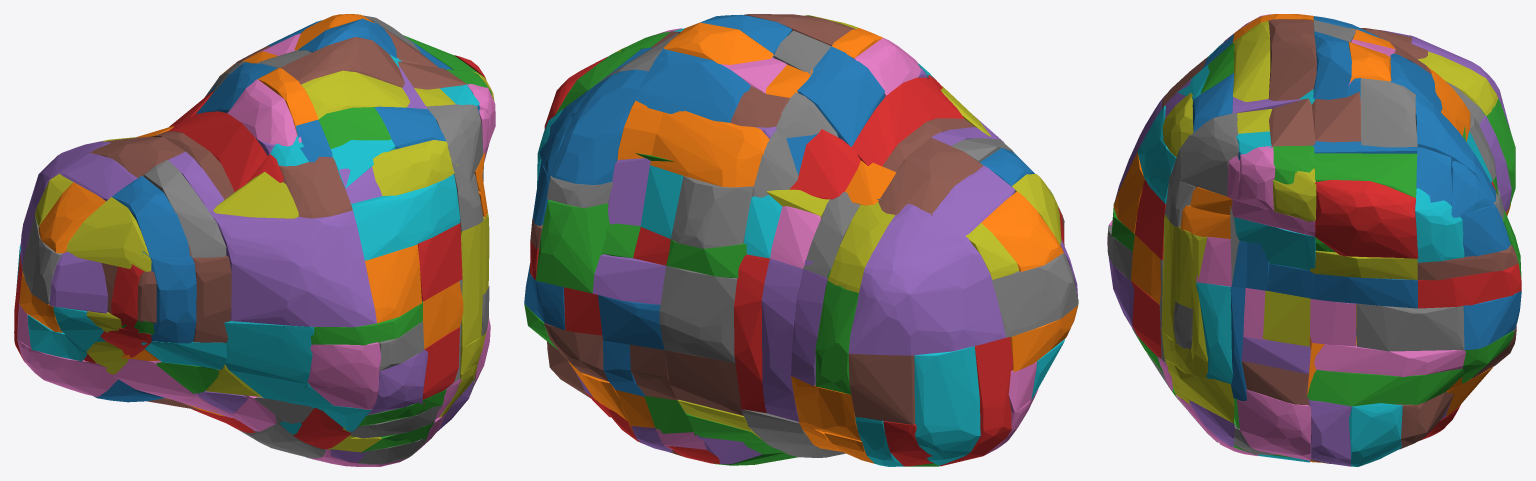
Rendered from Apophis_N250_v64.obj.
The picture shows the model from 3 angles, left to right: view 1: azimuth 30°, elevation 25°; view 2: azimuth 150°, elevation 25°; view 3: azimuth 270°, elevation 25°; orthographic projection. The views are drawn at different scales.
Visible parts, largest first — view 1: ../meshes/apophis_v233s7_vert2_new004, ../meshes/apophis_v233s7_vert2_new019, ../meshes/apophis_v233s7_vert2_new069, ../meshes/apophis_v233s7_vert2_new056, ../meshes/apophis_v233s7_vert2_new028, ../meshes/apophis_v233s7_vert2_new013, ../meshes/apophis_v233s7_vert2_new100, ../meshes/apophis_v233s7_vert2_new035, ../meshes/apophis_v233s7_vert2_new078, ../meshes/apophis_v233s7_vert2_new060, ../meshes/apophis_v233s7_vert2_new077, ../meshes/apophis_v233s7_vert2_new091 (+68 smaller); view 2: ../meshes/apophis_v233s7_vert2_new014, ../meshes/apophis_v233s7_vert2_new059, ../meshes/apophis_v233s7_vert2_new001, ../meshes/apophis_v233s7_vert2_new047, ../meshes/apophis_v233s7_vert2_new020, ../meshes/apophis_v233s7_vert2_new000, ../meshes/apophis_v233s7_vert2_new012, ../meshes/apophis_v233s7_vert2_new114, ../meshes/apophis_v233s7_vert2_new050, ../meshes/apophis_v233s7_vert2_new057, ../meshes/apophis_v233s7_vert2_new067, ../meshes/apophis_v233s7_vert2_new013 (+67 smaller); view 3: ../meshes/apophis_v233s7_vert2_new093, ../meshes/apophis_v233s7_vert2_new017, ../meshes/apophis_v233s7_vert2_new142, ../meshes/apophis_v233s7_vert2_new006, ../meshes/apophis_v233s7_vert2_new036, ../meshes/apophis_v233s7_vert2_new037, ../meshes/apophis_v233s7_vert2_new035, ../meshes/apophis_v233s7_vert2_new027, ../meshes/apophis_v233s7_vert2_new042, ../meshes/apophis_v233s7_vert2_new113, ../meshes/apophis_v233s7_vert2_new029, ../meshes/apophis_v233s7_vert2_new040 (+74 smaller).
Part boxes in pixels (bbox=[...]): ../meshes/apophis_v233s7_vert2_new004: bbox=[209, 210, 376, 327]; ../meshes/apophis_v233s7_vert2_new019: bbox=[224, 320, 314, 401]; ../meshes/apophis_v233s7_vert2_new069: bbox=[350, 174, 460, 260]; ../meshes/apophis_v233s7_vert2_new056: bbox=[307, 342, 381, 409]; ../meshes/apophis_v233s7_vert2_new028: bbox=[66, 197, 151, 271]; ../meshes/apophis_v233s7_vert2_new013: bbox=[163, 111, 267, 191]; ../meshes/apophis_v233s7_vert2_new100: bbox=[141, 251, 196, 343]; ../meshes/apophis_v233s7_vert2_new035: bbox=[279, 37, 404, 87]; ../meshes/apophis_v233s7_vert2_new078: bbox=[372, 140, 457, 195]; ../meshes/apophis_v233s7_vert2_new060: bbox=[112, 175, 189, 257]; ../meshes/apophis_v233s7_vert2_new077: bbox=[144, 160, 226, 257]; ../meshes/apophis_v233s7_vert2_new091: bbox=[365, 244, 421, 323]; ../meshes/apophis_v233s7_vert2_new014: bbox=[848, 204, 1005, 355]; ../meshes/apophis_v233s7_vert2_new059: bbox=[914, 346, 980, 465]; ../meshes/apophis_v233s7_vert2_new001: bbox=[650, 111, 769, 187]; ../meshes/apophis_v233s7_vert2_new047: bbox=[659, 266, 737, 363]; ../meshes/apophis_v233s7_vert2_new020: bbox=[550, 69, 648, 184]; ../meshes/apophis_v233s7_vert2_new000: bbox=[634, 48, 750, 122]; ../meshes/apophis_v233s7_vert2_new012: bbox=[535, 200, 609, 293]; ../meshes/apophis_v233s7_vert2_new114: bbox=[761, 258, 802, 421]; ../meshes/apophis_v233s7_vert2_new050: bbox=[797, 46, 884, 146]; ../meshes/apophis_v233s7_vert2_new057: bbox=[992, 252, 1078, 337]; ../meshes/apophis_v233s7_vert2_new067: bbox=[671, 176, 754, 248]; ../meshes/apophis_v233s7_vert2_new013: bbox=[852, 77, 964, 165]; ../meshes/apophis_v233s7_vert2_new093: bbox=[1315, 180, 1418, 258]; ../meshes/apophis_v233s7_vert2_new017: bbox=[1356, 303, 1464, 351]; ../meshes/apophis_v233s7_vert2_new142: bbox=[1307, 368, 1464, 406]; ../meshes/apophis_v233s7_vert2_new006: bbox=[1237, 389, 1311, 460]; ../meshes/apophis_v233s7_vert2_new036: bbox=[1314, 344, 1465, 377]; ../meshes/apophis_v233s7_vert2_new037: bbox=[1172, 113, 1238, 196]; ../meshes/apophis_v233s7_vert2_new035: bbox=[1268, 19, 1316, 100]; ../meshes/apophis_v233s7_vert2_new027: bbox=[1360, 78, 1417, 147]; ../meshes/apophis_v233s7_vert2_new042: bbox=[1314, 153, 1417, 252]; ../meshes/apophis_v233s7_vert2_new113: bbox=[1418, 263, 1521, 308]; ../meshes/apophis_v233s7_vert2_new029: bbox=[1349, 403, 1402, 466]; ../meshes/apophis_v233s7_vert2_new040: bbox=[1310, 274, 1417, 308].
Size of the model in its own units: 0.4053 by 0.3463 by 0.3157.
